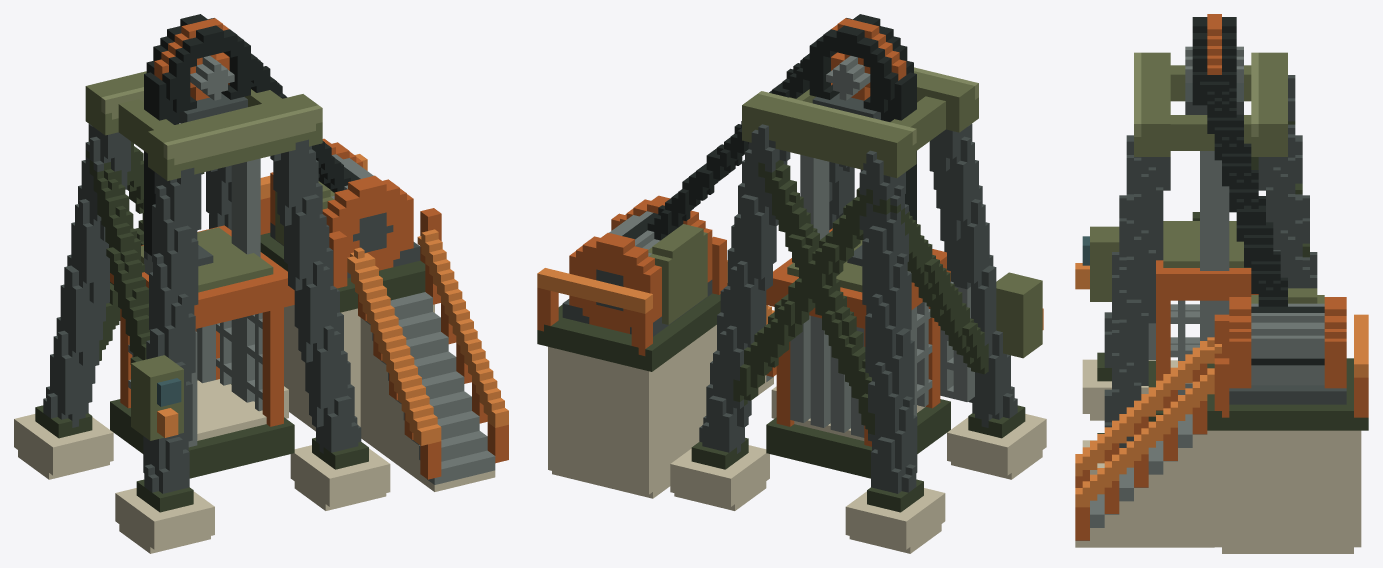
File: mine_elevator.glb
The picture shows the model from 3 angles, left to right: view 1: azimuth 30°, elevation 25°; view 2: azimuth 150°, elevation 25°; view 3: azimuth 270°, elevation 25°; orthographic projection. The views are drawn at different scales.
Visible parts, largest first — view 1: mine_elevator; view 2: mine_elevator; view 3: mine_elevator.
Part boxes in pixels (box(x1,y1,x2,y2)): mine_elevator: box(14, 14, 508, 553); mine_elevator: box(537, 14, 1046, 553); mine_elevator: box(1075, 14, 1368, 553).
Size of the model in its own units: 4.77 by 5.76 by 3.6.
